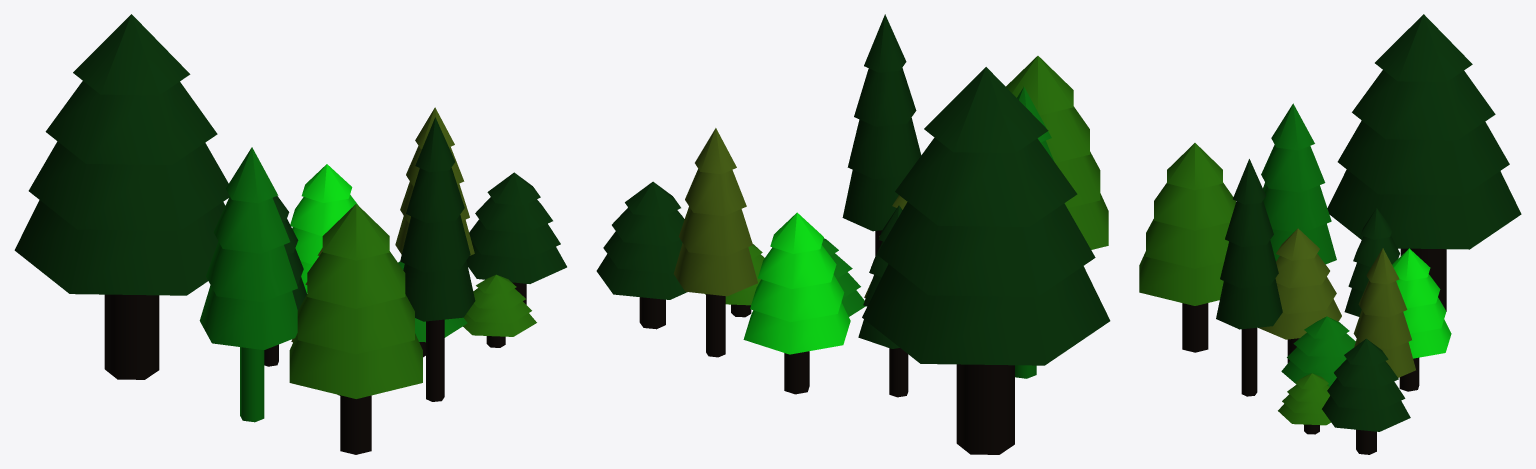
File: Extra_Tree01.FBX
The picture shows the model from 3 angles, left to right: view 1: azimuth 30°, elevation 25°; view 2: azimuth 150°, elevation 25°; view 3: azimuth 270°, elevation 25°; orthographic projection. The views are drawn at different scales.
Visible parts, largest first — view 1: Object003, Object, Object004, Object001, Object008, Object011, Object006, Object009, Object007, Object012, Object013, Object015 (+2 smaller); view 2: Object003, Object006, Object001, Object007, Object008, Object, Object011, Object005, Object019, Object010, Object018, Object017 (+2 smaller); view 3: Object003, Object, Object001, Object004, Object008, Object002, Object007, Object006, Object010, Object005, Object009, Object013 (+4 smaller).
Part boxes in pixels (left/top/right/bottom): Object003: left=14, top=14, right=229, bottom=295; Object: left=289, top=203, right=422, bottom=398; Object004: left=199, top=147, right=297, bottom=349; Object001: left=400, top=117, right=475, bottom=321; Object008: left=466, top=172, right=566, bottom=283; Object011: left=104, top=294, right=159, bottom=379; Object006: left=290, top=164, right=358, bottom=293; Object009: left=463, top=274, right=536, bottom=336; Object007: left=395, top=107, right=474, bottom=255; Object012: left=240, top=347, right=264, bottom=422; Object013: left=340, top=395, right=371, bottom=454; Object015: left=426, top=319, right=444, bottom=401; Object003: left=862, top=67, right=1110, bottom=365; Object006: left=743, top=212, right=850, bottom=354; Object001: left=842, top=14, right=921, bottom=231; Object007: left=673, top=128, right=757, bottom=296; Object008: left=596, top=181, right=687, bottom=299; Object: left=1006, top=56, right=1108, bottom=249; Object011: left=956, top=364, right=1014, bottom=454; Object005: left=858, top=205, right=902, bottom=348; Object019: left=706, top=294, right=725, bottom=357; Object010: left=821, top=238, right=865, bottom=316; Object018: left=784, top=351, right=809, bottom=394; Object017: left=889, top=348, right=908, bottom=397; Object003: left=1327, top=14, right=1521, bottom=249; Object: left=1139, top=143, right=1235, bottom=305; Object001: left=1216, top=159, right=1282, bottom=329; Object004: left=1261, top=103, right=1336, bottom=264; Object008: left=1322, top=338, right=1410, bottom=431; Object002: left=1258, top=228, right=1341, bottom=339; Object007: left=1353, top=248, right=1415, bottom=377; Object006: left=1392, top=248, right=1451, bottom=358; Object010: left=1281, top=316, right=1355, bottom=386; Object005: left=1344, top=208, right=1399, bottom=316; Object009: left=1278, top=373, right=1330, bottom=425; Object013: left=1182, top=303, right=1208, bottom=352.
Size of the model in its own units: 1121 by 791 by 919.
